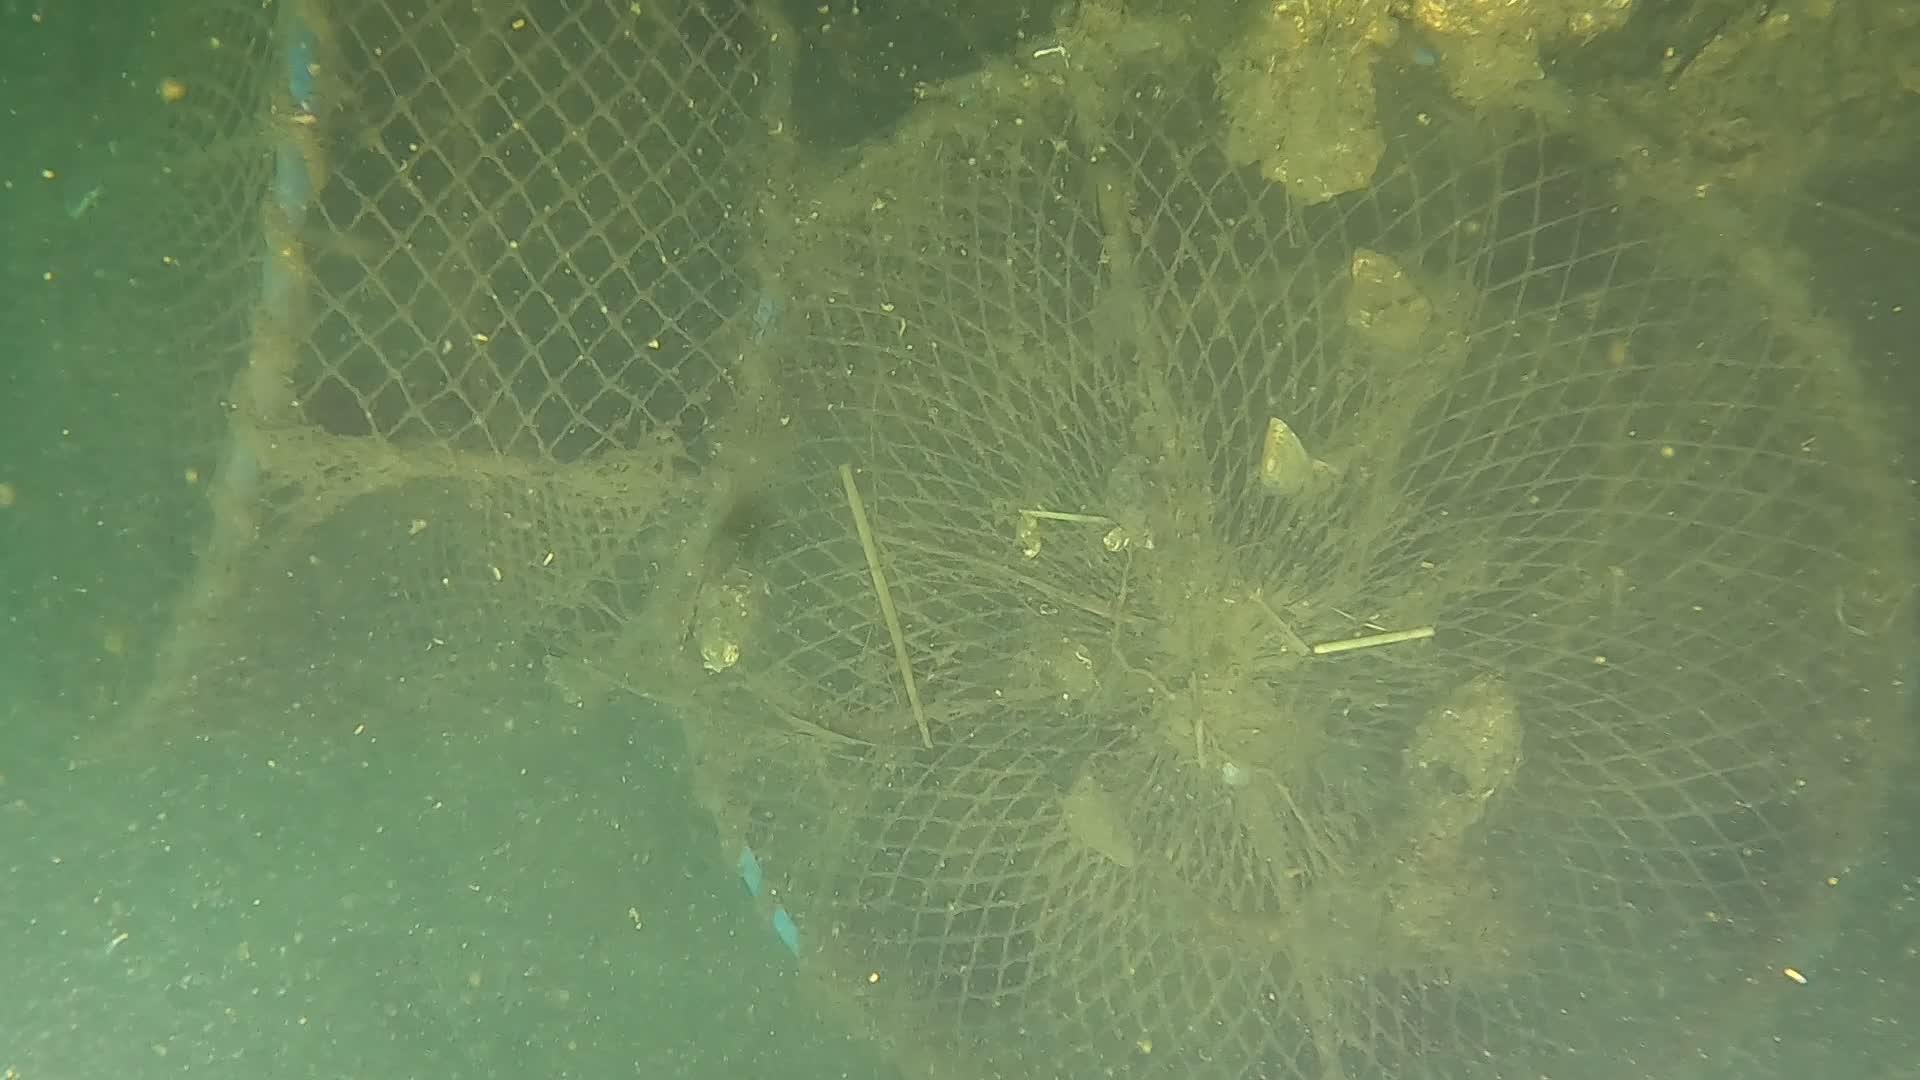circular fish trap: (666, 0, 1920, 1080), (40, 0, 794, 773)
